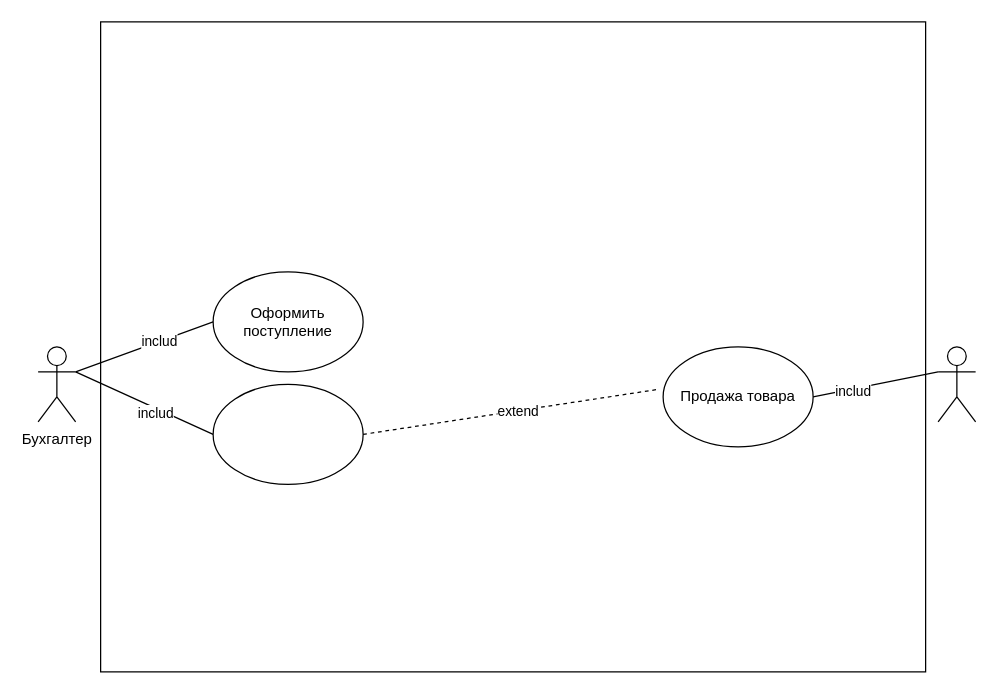
Some shapes in this 1003 by 694 pixel diagram are drawn without their labels. Each missing label, with the box of its shape:
Кассир: (937, 346, 976, 422)
Создать отчет по остаткам: (212, 383, 363, 484)
